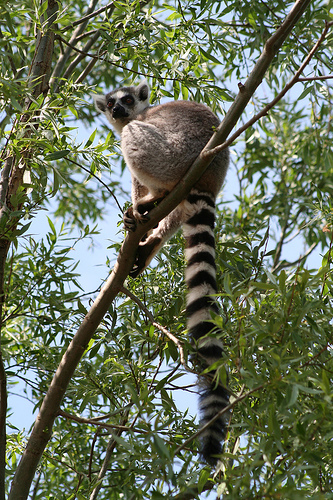cat: (93, 86, 226, 466)
